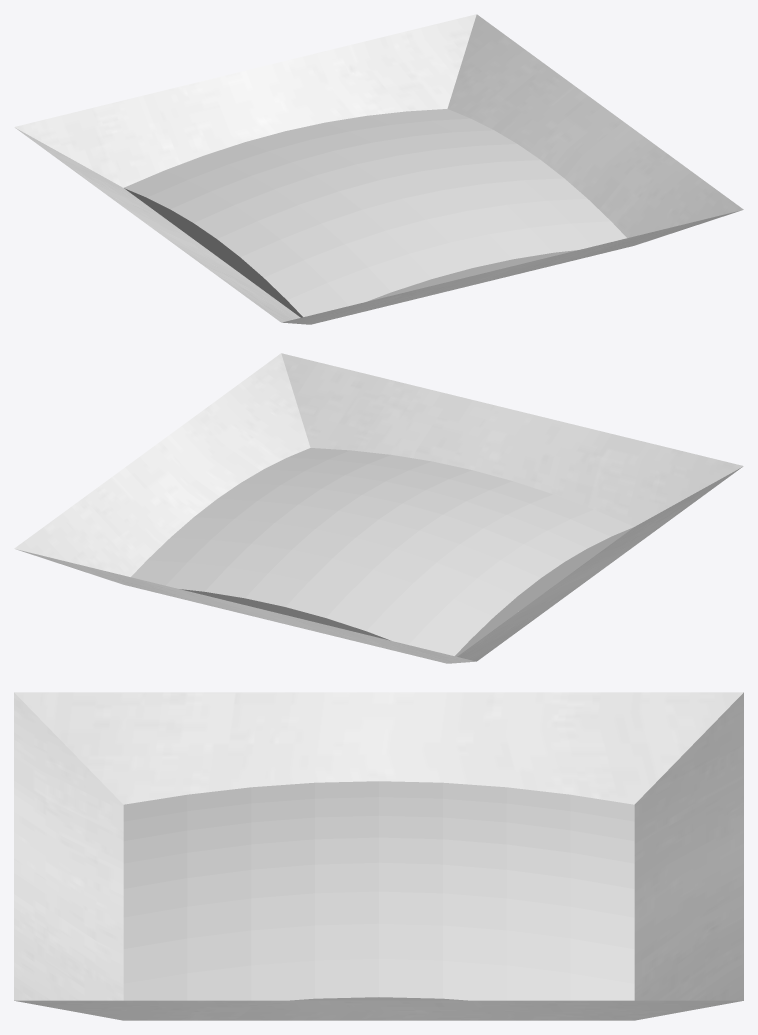
The model's file is Light.glb.
3 views of the same model, one above another, from view 1: azimuth 30°, elevation 25°; view 2: azimuth 150°, elevation 25°; view 3: azimuth 270°, elevation 25° (orthographic). The views are drawn at different scales.
Visible parts, largest first — view 1: Shine, Light; view 2: Shine, Light; view 3: Shine, Light.
Boxes of the visible parts, x1,y1,x2,y2 form: Shine: [14, 14, 743, 324]; Light: [124, 109, 626, 317]; Shine: [14, 353, 743, 663]; Light: [131, 448, 633, 656]; Shine: [14, 692, 743, 1020]; Light: [123, 781, 634, 1000].
Size of the model in its own units: 2 by 0.2 by 2.
1 material, 1 textured.
